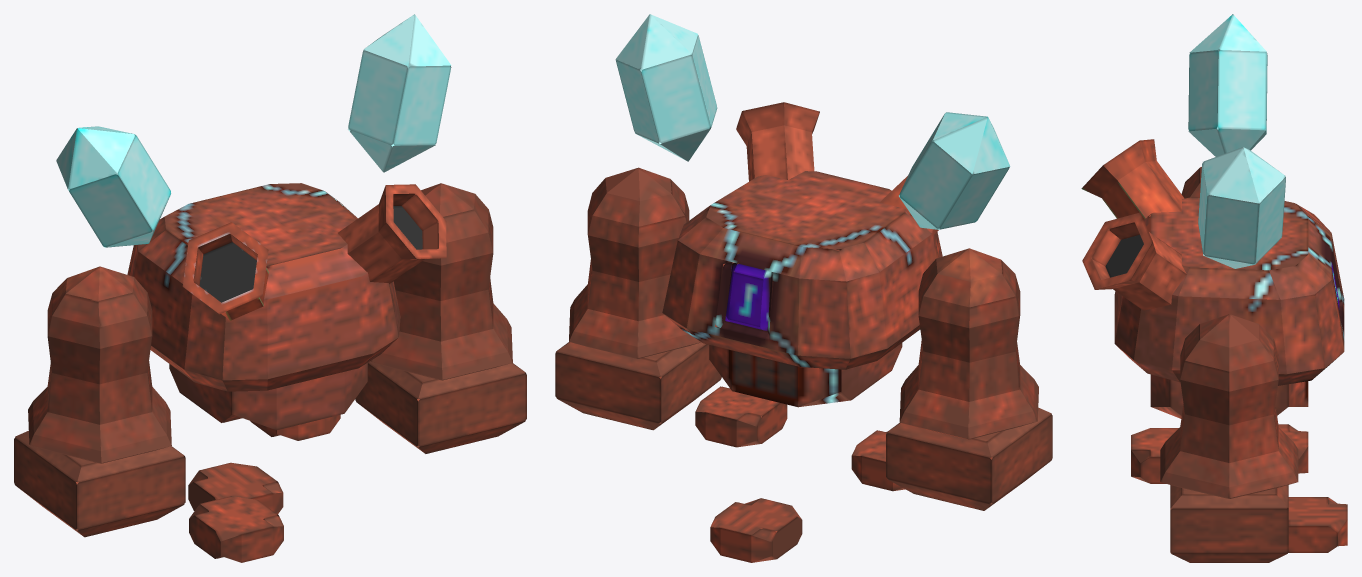
The model's file is Golem.fbx.
3 views of the same model, side by side, from view 1: azimuth 30°, elevation 25°; view 2: azimuth 150°, elevation 25°; view 3: azimuth 270°, elevation 25° (orthographic). The views are drawn at different scales.
Visible parts, largest first — view 1: cube_1, cylinder_1, cylinder, cube_6, sphere, cube_5, sphere_1, cylinder_2, cube, cylinder_3, cube_3, cube_4 (+1 smaller); view 2: cube_1, cylinder_1, cylinder, cube_6, cube_5, sphere, sphere_1, cube, cylinder_2, cube_4, cube_2, cube_3; view 3: cube_1, cylinder, sphere_1, sphere, cube_5, cylinder_2, cylinder_3, cube_4, cube, cube_3, cube_2, cylinder_1.
Part boxes in pixels (x1,y1,x2,y2): cube_1: [127, 183, 400, 391]; cylinder_1: [28, 266, 171, 463]; cylinder: [370, 183, 512, 380]; cube_6: [14, 430, 185, 537]; sphere: [348, 14, 451, 172]; cube_5: [355, 361, 526, 453]; sphere_1: [56, 126, 170, 247]; cylinder_2: [338, 184, 446, 283]; cube: [169, 362, 367, 430]; cylinder_3: [182, 222, 268, 320]; cube_3: [189, 496, 283, 562]; cube_4: [188, 462, 283, 514]; cube_1: [662, 171, 942, 369]; cylinder_1: [899, 248, 1038, 439]; cylinder: [569, 167, 701, 358]; cube_6: [886, 407, 1052, 510]; cube_5: [555, 342, 721, 430]; sphere: [615, 14, 717, 161]; sphere_1: [899, 112, 1010, 229]; cube: [709, 324, 902, 407]; cylinder_2: [736, 102, 819, 181]; cube_4: [710, 498, 802, 562]; cube_2: [695, 386, 787, 447]; cube_3: [851, 430, 905, 491]; cube_1: [1114, 197, 1344, 385]; cylinder: [1160, 314, 1298, 498]; sphere_1: [1188, 14, 1267, 156]; sphere: [1198, 147, 1285, 268]; cube_5: [1170, 485, 1288, 562]; cylinder_2: [1082, 212, 1186, 310]; cylinder_3: [1081, 139, 1184, 219]; cube_4: [1288, 497, 1347, 552]; cube: [1150, 374, 1308, 418]; cube_3: [1131, 428, 1178, 483]; cube_2: [1278, 424, 1308, 473]; cylinder_1: [1181, 167, 1201, 198].
Bounding box in the file's own units: 166 × 160 × 84.49.
Materials: 1 (1 with a texture image).
